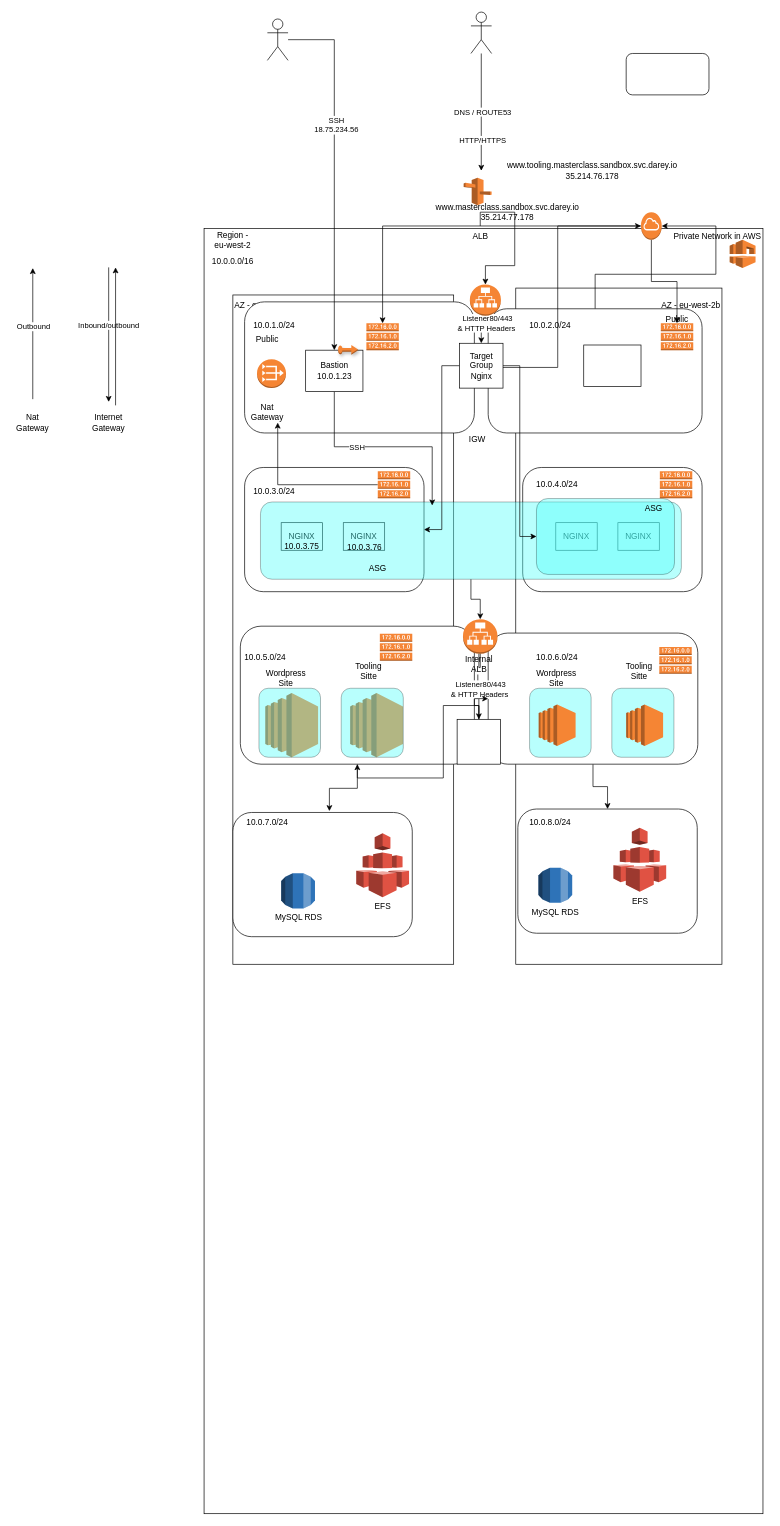
The diagram is 780 pixels wide and 1526 high, and some of its shapes have lost their labels. Each missing label, with the centre of its shape:
Bastion: the point at 612,365
Customer: the point at 481,32
DevOps: the point at 277,39
nginx.org/packages: the point at 667,74
Target Group [wordpress or tooling]: the point at 478,741
